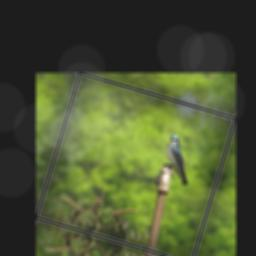Swallow: (156, 133, 202, 189)
